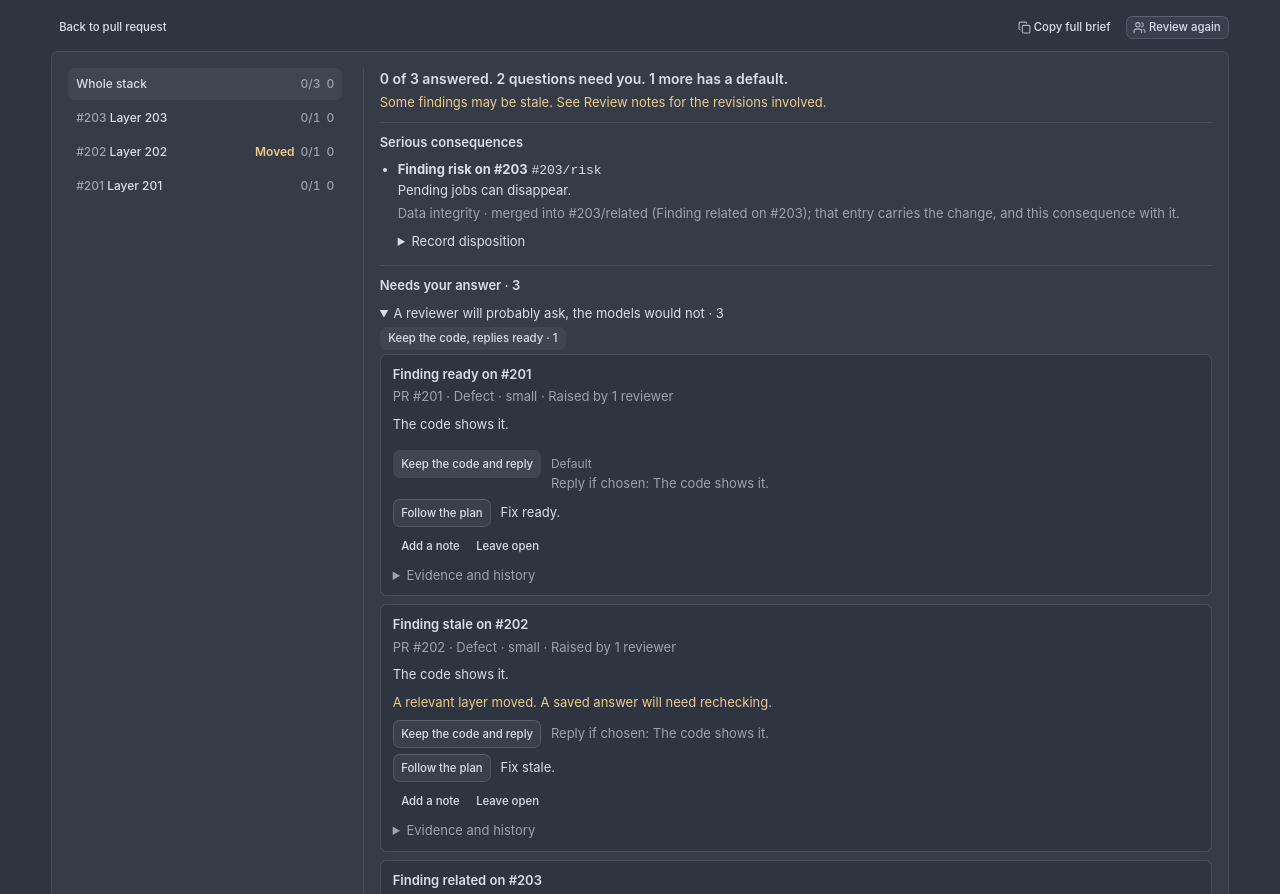
opens a group with stale and serious-related cards and counts only eligible defaults
The width and height of the screenshot is (1280, 894).
expect the text "0 of 3 answered. 2 questions need you. 1 more has a default." is shown: met, box [380,70,788,87]
expect the text "Default" is shown once: met, box [551,456,592,471]
Click the button "Keep the code, replies ready · 1": (472, 338) [380,327,565,350]
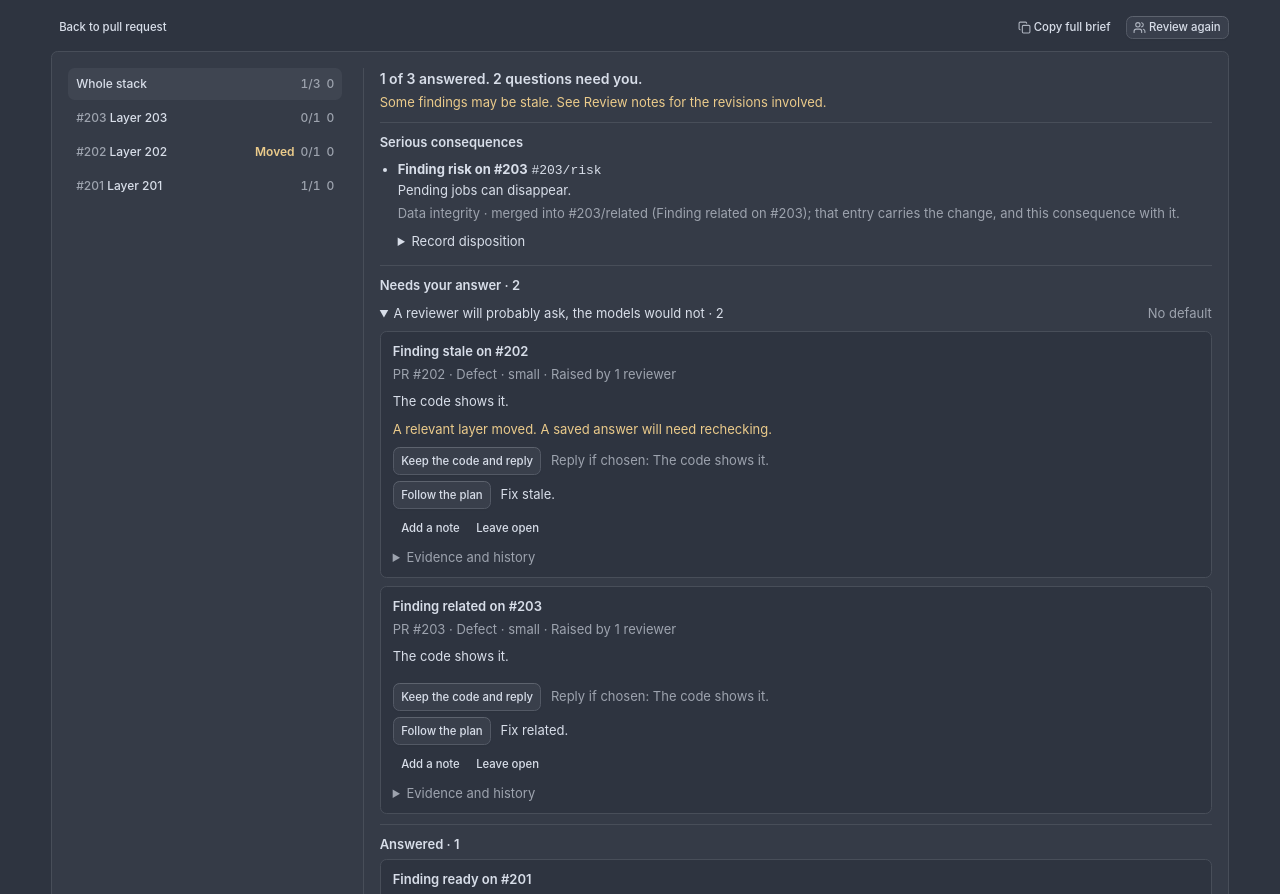
expect the heading "Answered · 1" is shown: met, box [380,836,460,852]
expect the text "1 of 3 answered. 2 questions need you." is shown: met, box [380,70,642,87]
expect the text "No default" is shown: met, box [1148,304,1212,323]
